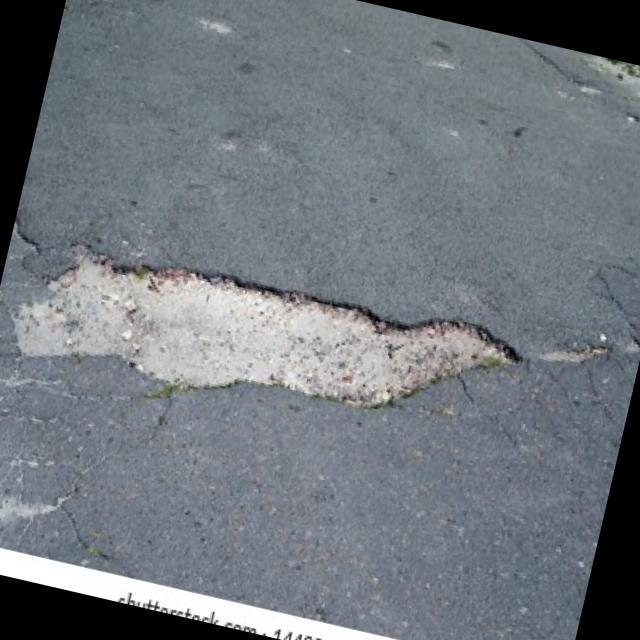Pothole: (2, 226, 524, 468)
